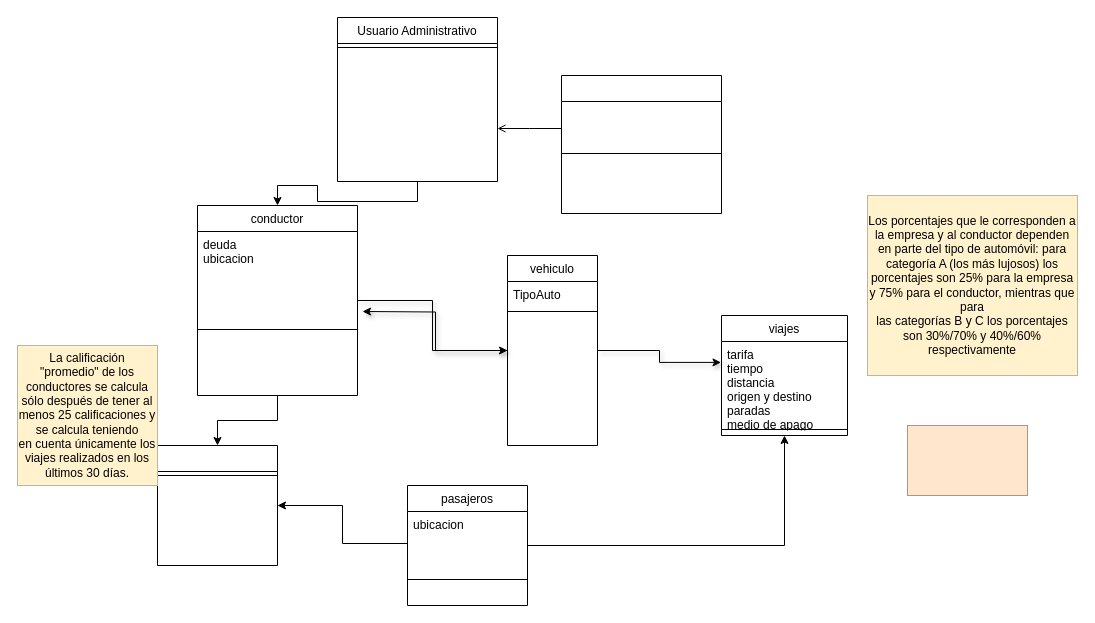
This 1095x623 diagram has some shape labels left out. The centre of each missing label's shape, as x and y in pixels:
"agregar regla de tarjeta en pago" belongs at point 967,460.
"calificación" belongs at point 217,505.
"empresa" belongs at point 641,144.
